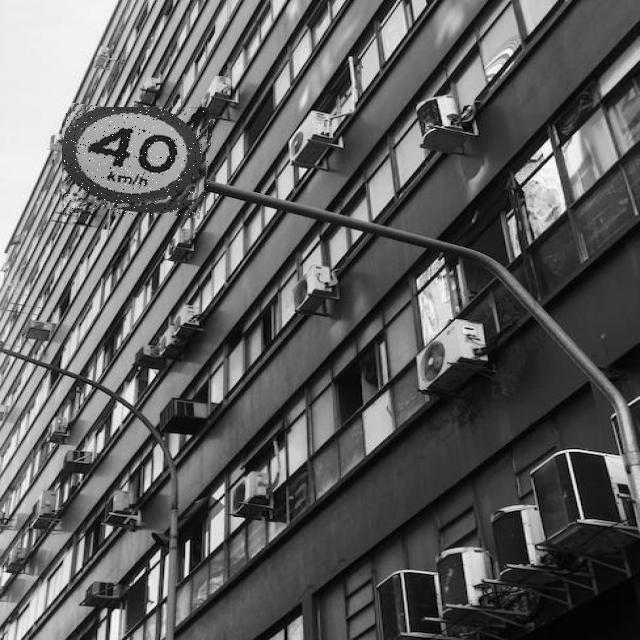speed limit 40: (62, 107, 211, 215)
